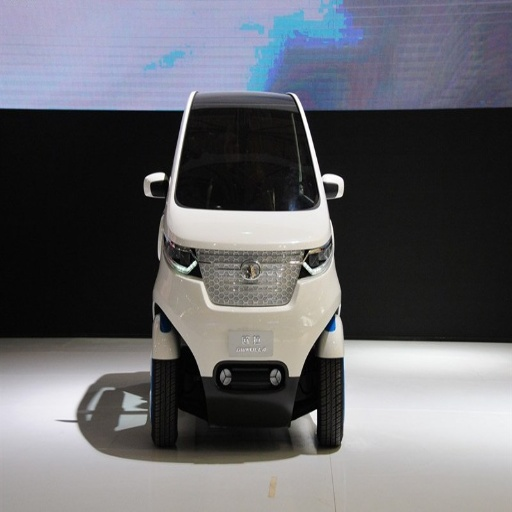front_bumper: (157, 246, 340, 417)
hood: (167, 205, 329, 248)
